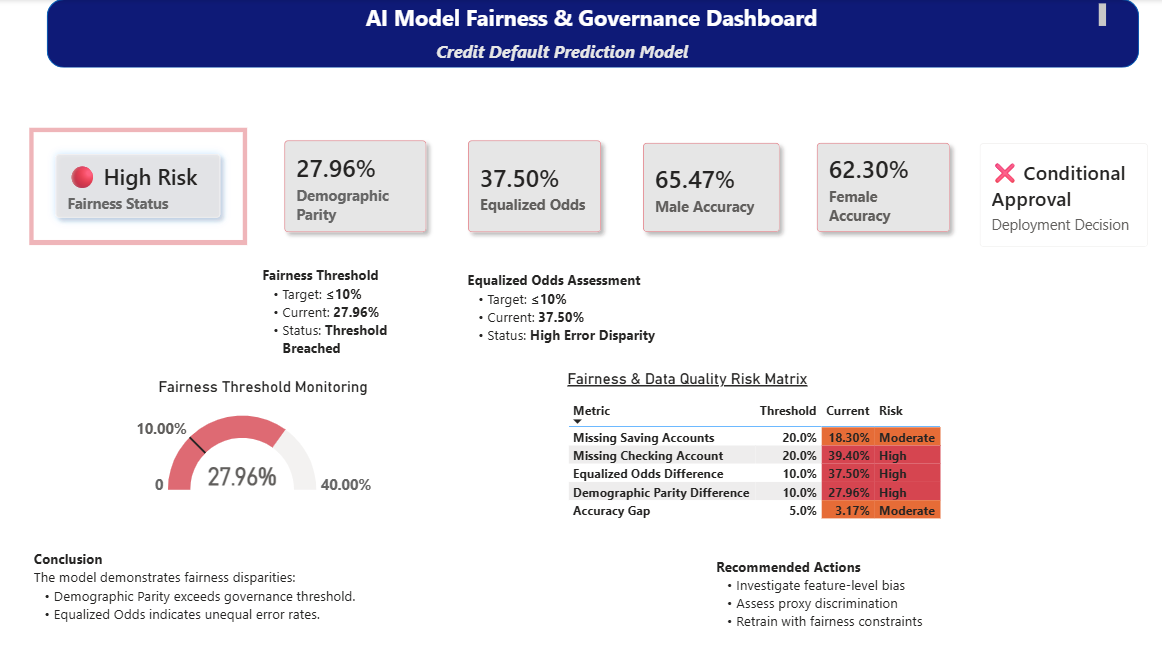

Layout of this report page (visuals, bound fields, positions):
{"tool":"powerbi","page":{"name":"Fairness KPI Cards","canvas":[1280,720],"ordinal":0},"visuals":[{"type":"cardVisual","fields":{"Data":["fairness_metrics.Demographic Parity"]},"box":[285.4,125.9,214.1,159.5],"z":0},{"type":"cardVisual","fields":{"Data":["fairness_metrics.Female Accuracy"]},"box":[870.3,128.7,204.3,156.7],"z":1000},{"type":"cardVisual","fields":{"Data":["fairness_metrics.Male Accuracy"]},"box":[678.6,128.7,208.5,156.7],"z":2000},{"type":"cardVisual","fields":{"Data":["fairness_metrics.Equalized Odds"]},"box":[486.9,125.9,204.3,159.5],"z":3000},{"type":"cardVisual","fields":{"Data":["fairness_metrics.Fairness Status"]},"box":[35,141.3,239.3,128.7],"z":4000},{"type":"textbox","box":[285.4,288.2,201.5,117.5],"z":5000},{"type":"textbox","box":[510.7,293.8,216.9,111.9],"z":6000},{"type":"textbox","box":[35,600.3,554.1,100.7],"z":7000},{"type":"gauge","title":"Fairness Threshold Monitoring","fields":{"Y":["fairness_metrics.Demographic Parity"],"TargetValue":["fairness_metrics.Fairness Threshold"],"MinValue":["fairness_metrics.Gauge Min"],"MaxValue":["fairness_metrics.Gauge Max"]},"box":[35,415.6,513.5,132.9],"z":8000},{"type":"tableEx","title":"Fairness & Data Quality Risk Matrix","fields":{"Values":["Risk_Matrix.Metric","Risk_Matrix.Threshold","Risk_Matrix.Current","Risk_Matrix.Risk"]},"box":[619.9,405.8,454.7,180.5],"z":9000},{"type":"shape","box":[53.2,0,1199.1,75.6],"z":10000},{"type":"textbox","box":[89.5,0,1132,37.8],"z":11000},{"type":"textbox","box":[193.1,39.2,852.1,36.4],"z":12000},{"type":"cardVisual","fields":{"Data":["fairness_metrics.Deployment Decision"]},"box":[1060.6,141.3,219.7,148.3],"z":13000},{"type":"textbox","box":[783.6,607.3,447.7,93.7],"z":14000}]}

Visuals, with their boxes in screenshot pixels (x1, y1, x2, y2), scaled from the page's 1280x720 canvas onto the 1162x650 screenshot:
cardVisual - fairness_metrics.Demographic Parity: <region>259, 114, 453, 258</region>
cardVisual - fairness_metrics.Female Accuracy: <region>790, 116, 976, 258</region>
cardVisual - fairness_metrics.Male Accuracy: <region>616, 116, 805, 258</region>
cardVisual - fairness_metrics.Equalized Odds: <region>442, 114, 627, 258</region>
cardVisual - fairness_metrics.Fairness Status: <region>32, 128, 249, 244</region>
textbox: <region>259, 260, 442, 366</region>
textbox: <region>464, 265, 661, 366</region>
textbox: <region>32, 542, 535, 633</region>
"Fairness Threshold Monitoring" gauge: <region>32, 375, 498, 495</region>
"Fairness & Data Quality Risk Matrix" tableEx: <region>563, 366, 976, 529</region>
shape: <region>48, 0, 1137, 68</region>
textbox: <region>81, 0, 1109, 34</region>
textbox: <region>175, 35, 949, 68</region>
cardVisual - fairness_metrics.Deployment Decision: <region>963, 128, 1161, 261</region>
textbox: <region>711, 548, 1118, 633</region>
